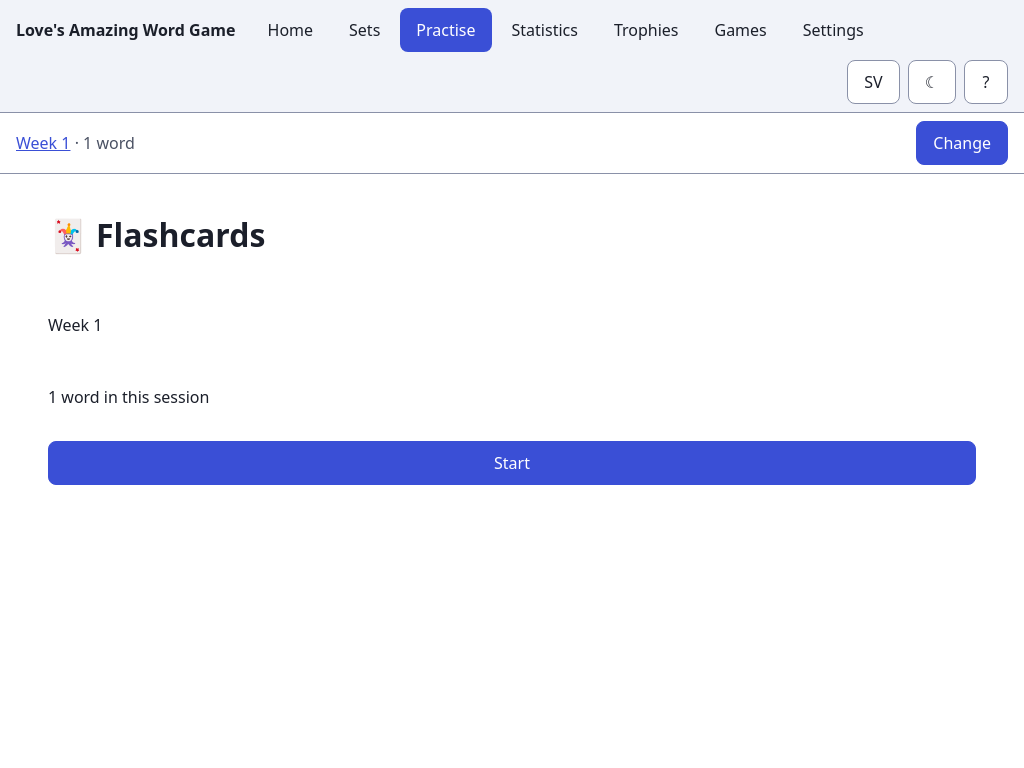
unlocking trophies › NH-10: finishing a first session celebrates and stores the new trophies
The image size is (1024, 768).
Click the button "Start" at {"x": 512, "y": 463}, box [48,441,976,485]
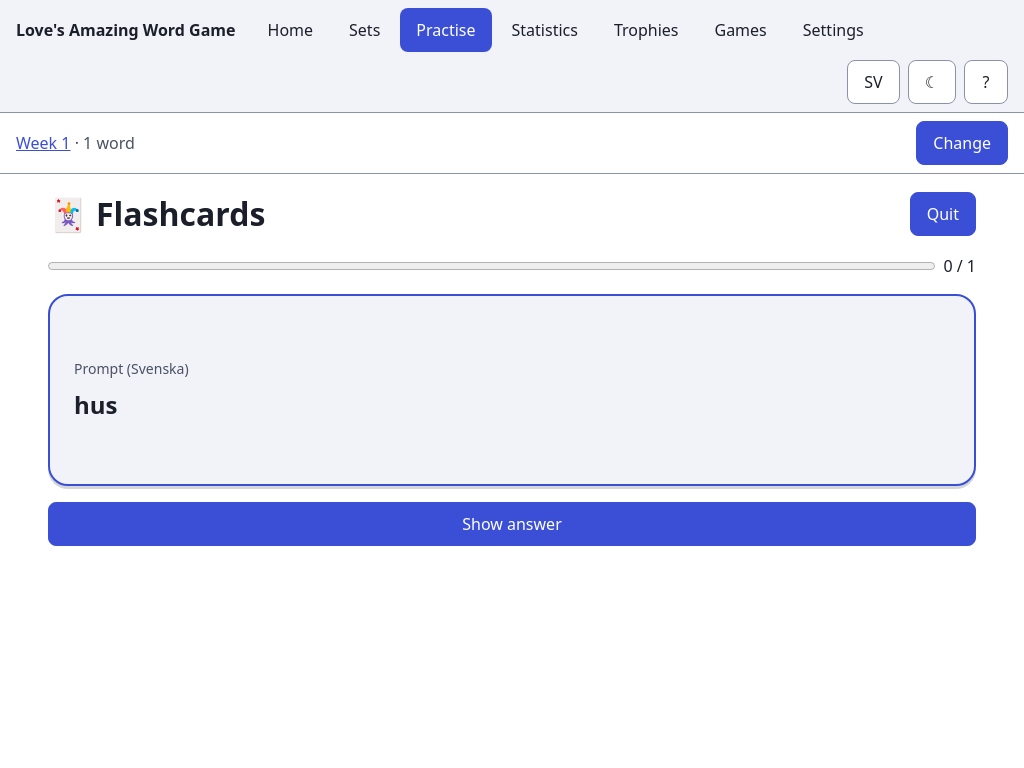
Click the button "Show answer" at {"x": 512, "y": 524}, box [48,502,976,546]
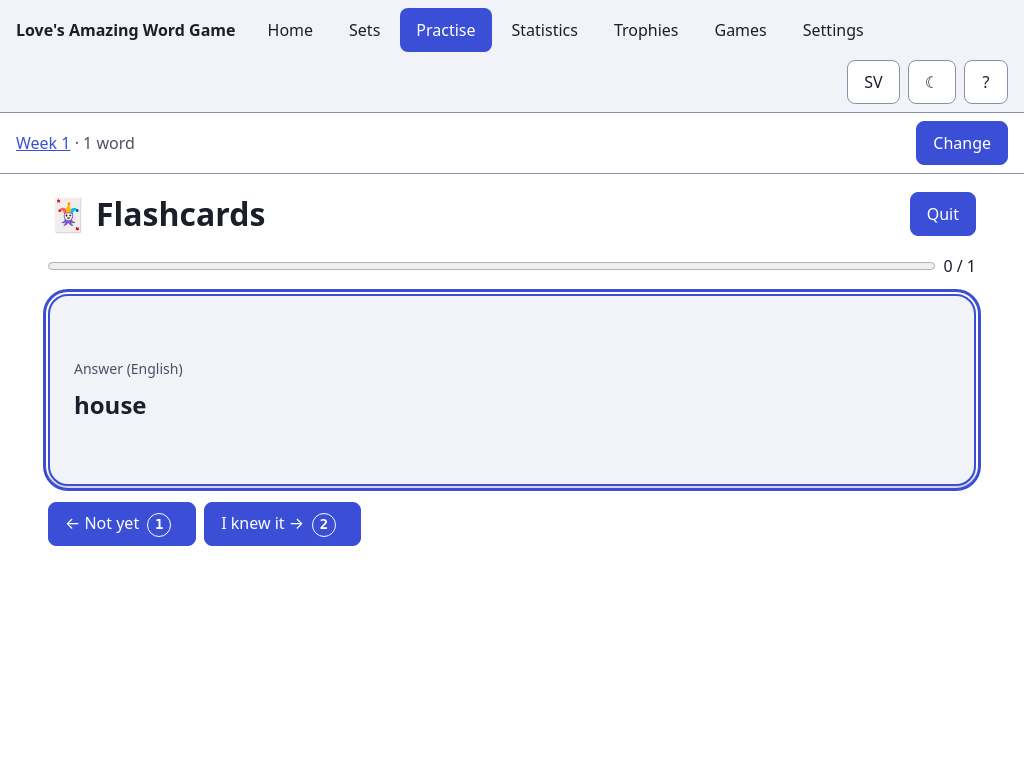
Click the button "I knew it → 2" at {"x": 283, "y": 524}, box [204,502,361,546]
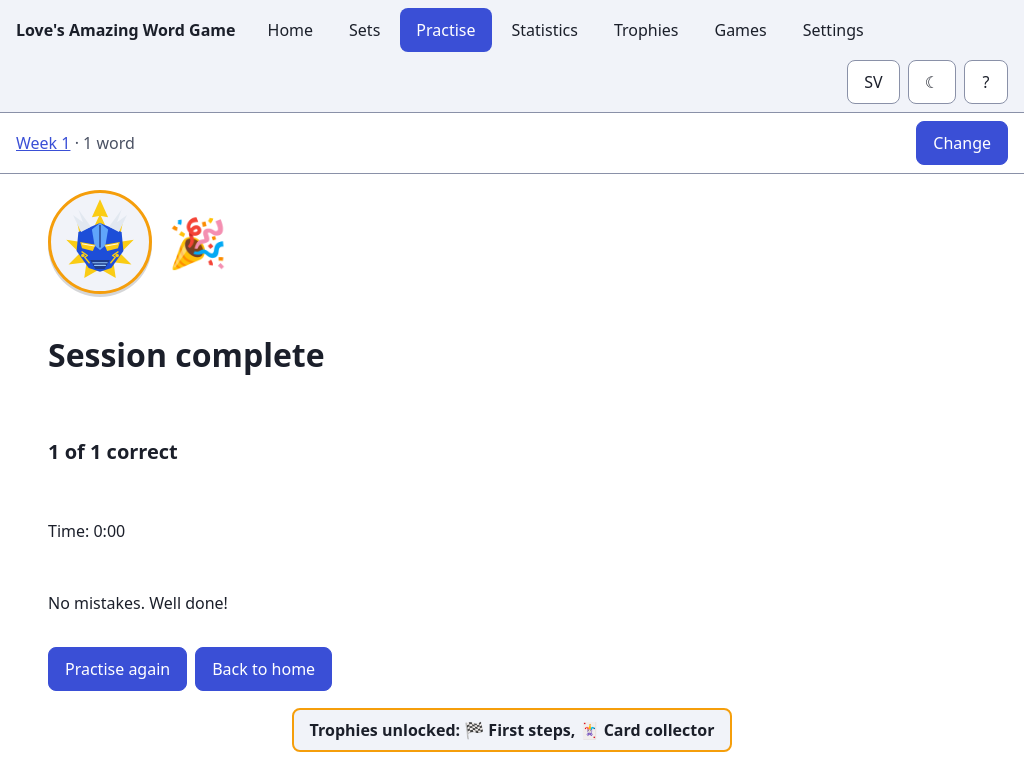
Now the heading "Session complete" is shown, box [48,333,325,376]
Now the text "Trophies unlocked: 🏁 First steps, 🃏 Card collector" is shown, box [310,718,714,742]
